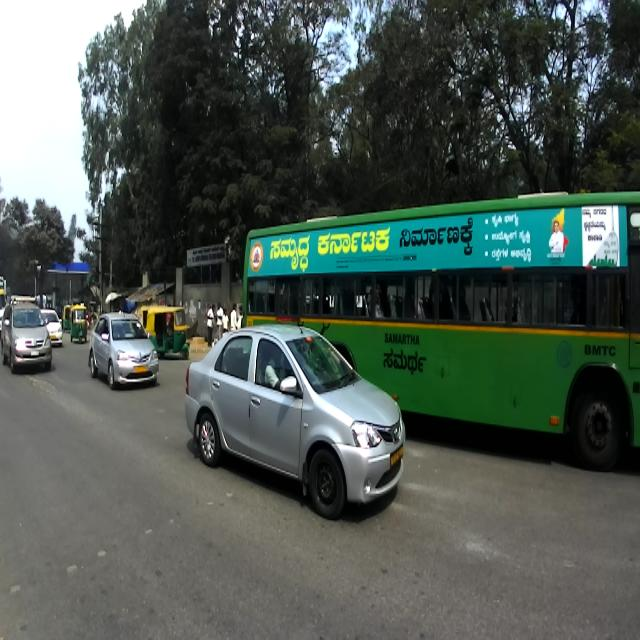car ahead at: (181, 318, 406, 522), (82, 308, 155, 390), (3, 292, 58, 378)
